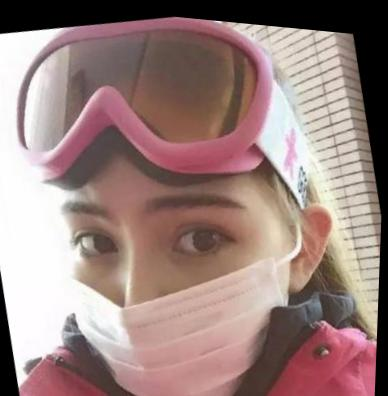WRONG: (47, 157, 307, 396)
